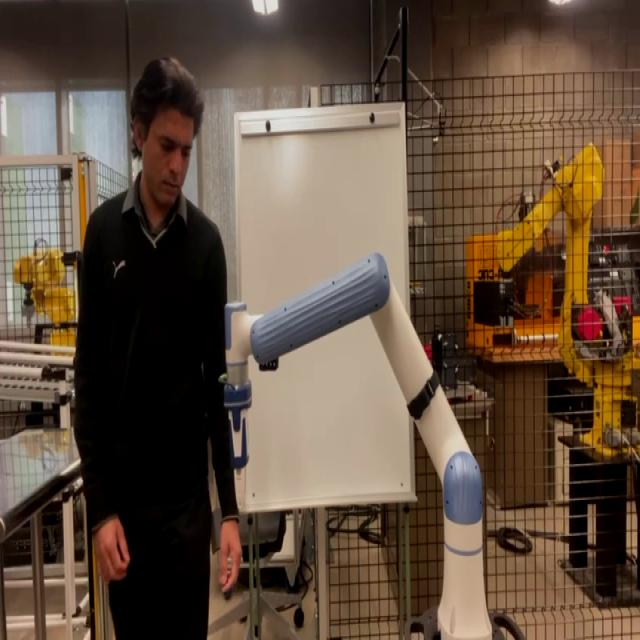robot: (216, 250, 525, 638)
